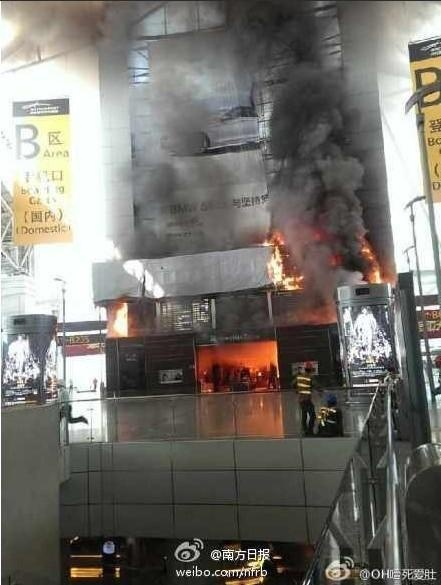fire: (264, 232, 301, 292), (361, 239, 387, 284), (109, 300, 128, 336)
